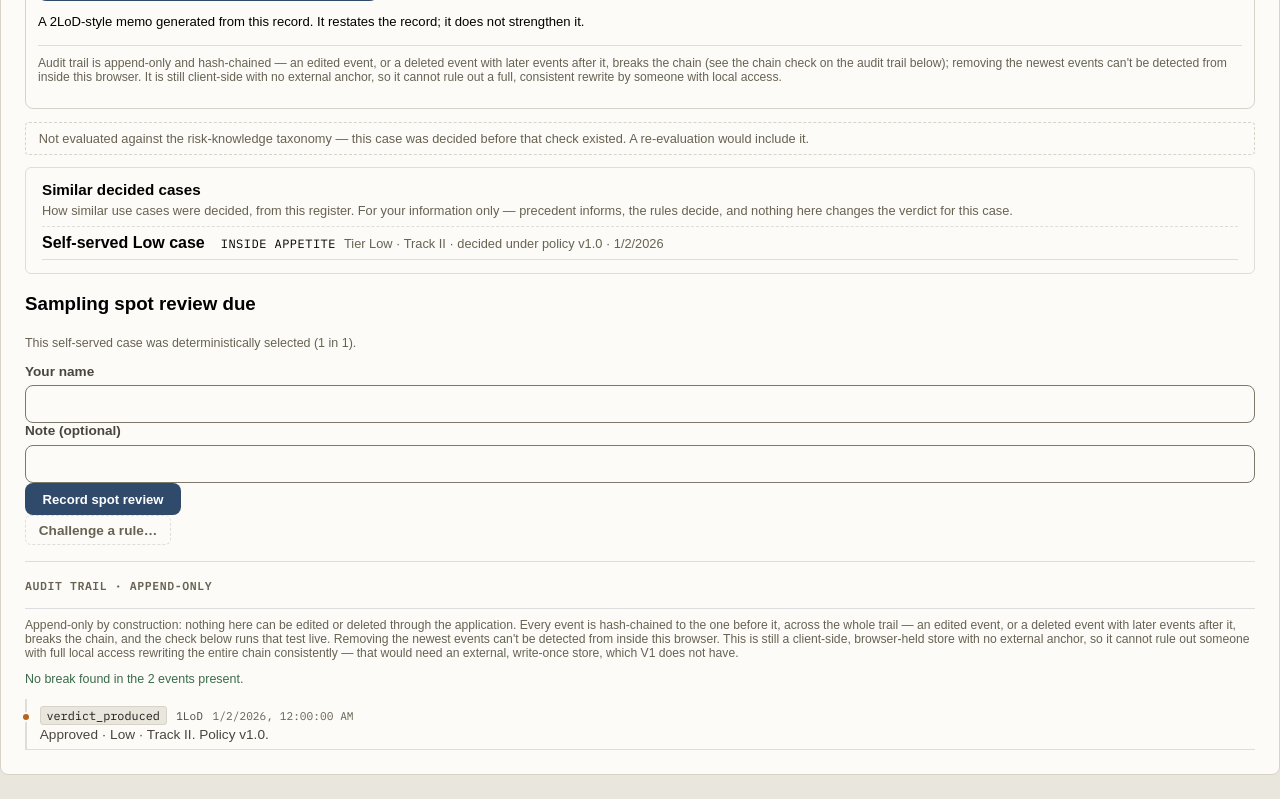
RegisterDetail — sampling spot review (R12-AB-1) › TC-R12-AB-1-04: recording the review appends exactly one sampling_reviewed event and clears the panel
The image size is (1280, 799).
(page scrolled)
expect the heading "Sampling spot review due" is shown: met, box [25, 293, 256, 314]
Type "Priya Nair" into the field labelled "Your name". click: (640, 404)
box: [25, 385, 1255, 423]
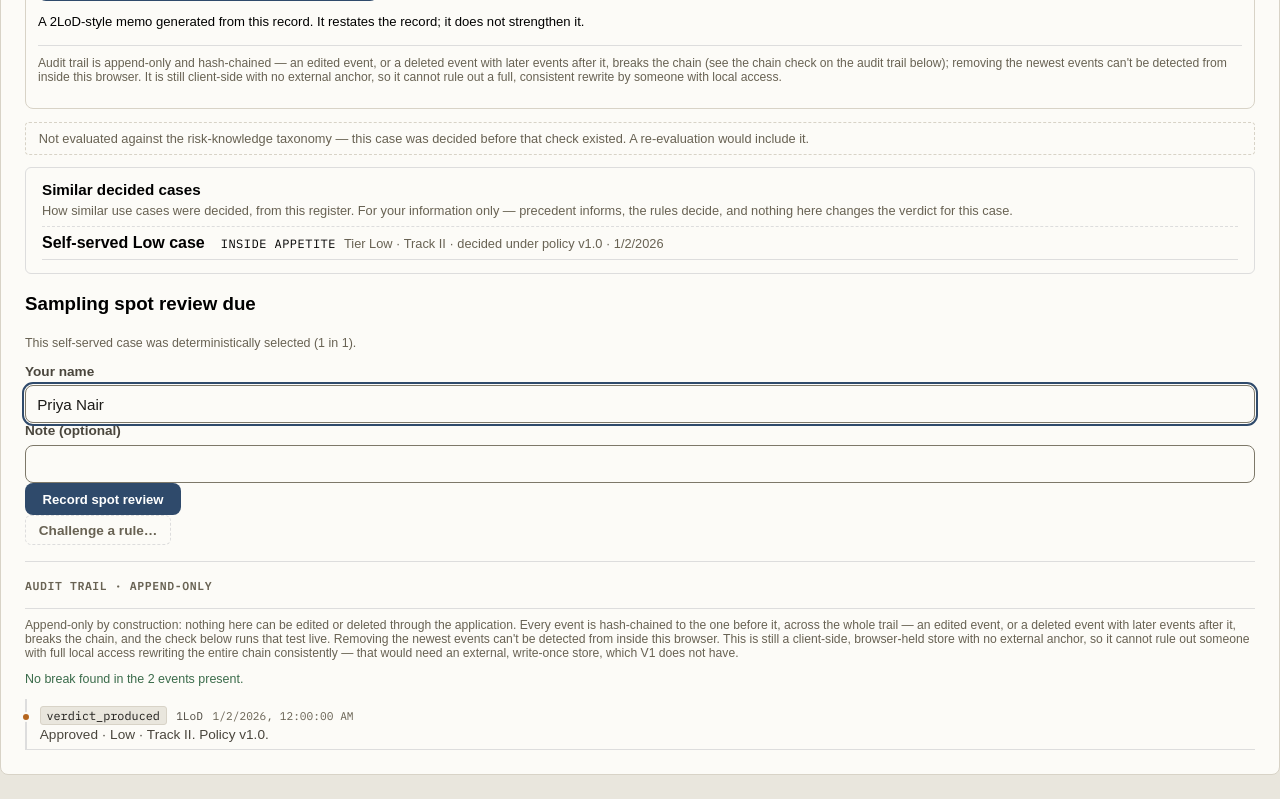
Click the button "Record spot review". click: (103, 499)
box: [25, 483, 181, 515]
(page scrolled)
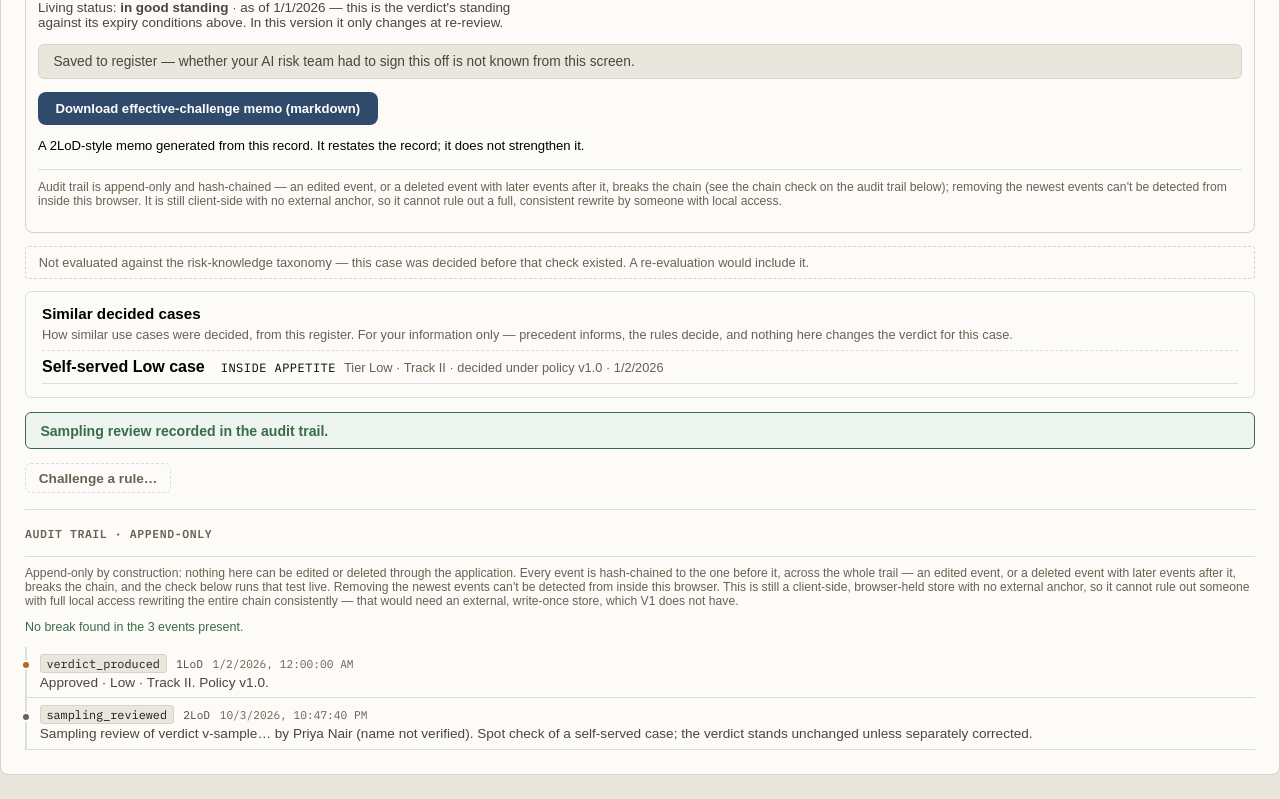
expect the heading "Sampling spot review due" is gone: met
